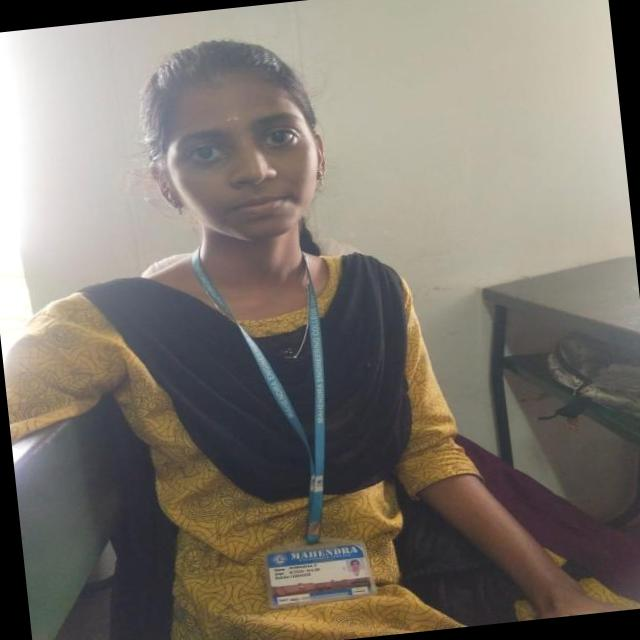id_card: (198, 230, 370, 604)
